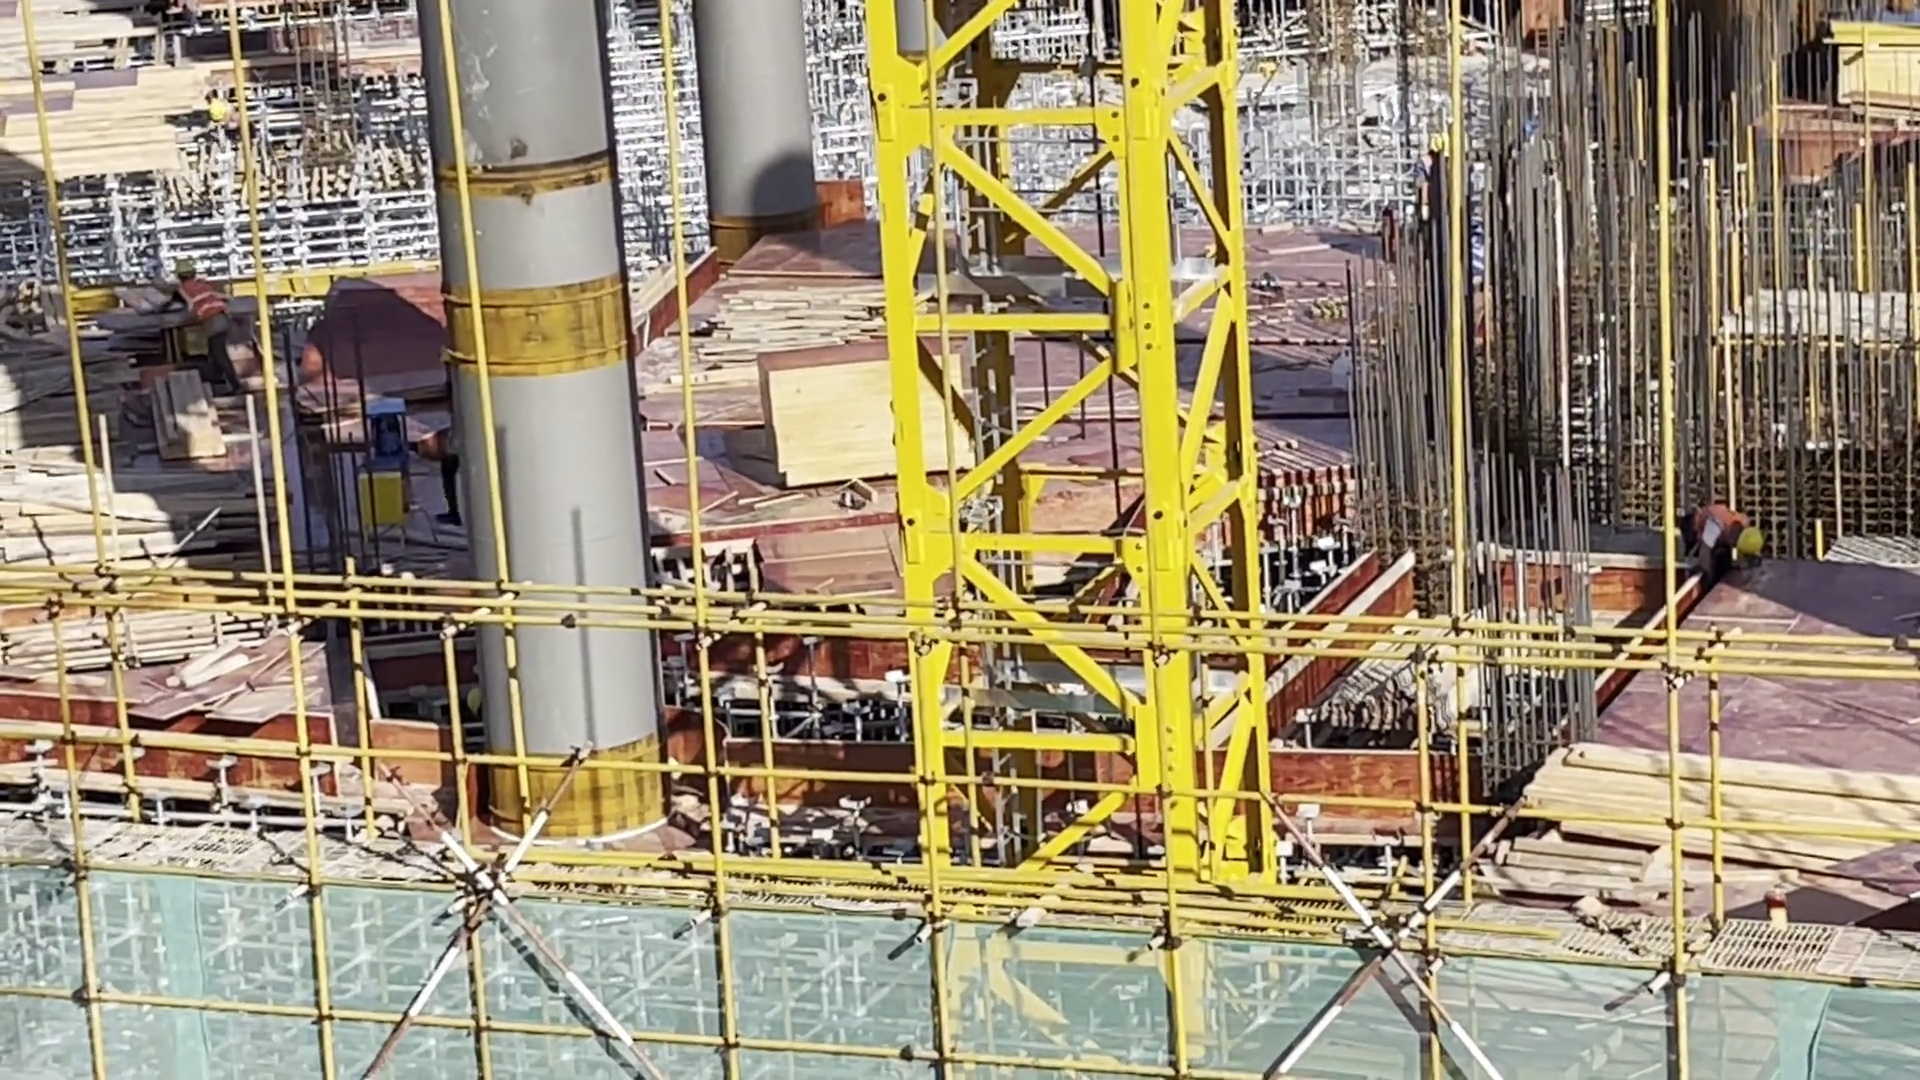board: (762, 347, 975, 497), (1823, 6, 1920, 99)
helmet: (1731, 519, 1769, 563), (206, 91, 234, 131), (173, 259, 204, 279)
person: (163, 249, 245, 406), (1673, 487, 1779, 598), (201, 90, 262, 156)
vest: (1688, 502, 1748, 558), (170, 276, 230, 327)
wood: (1529, 739, 1920, 869), (6, 456, 286, 563), (156, 369, 226, 471)
